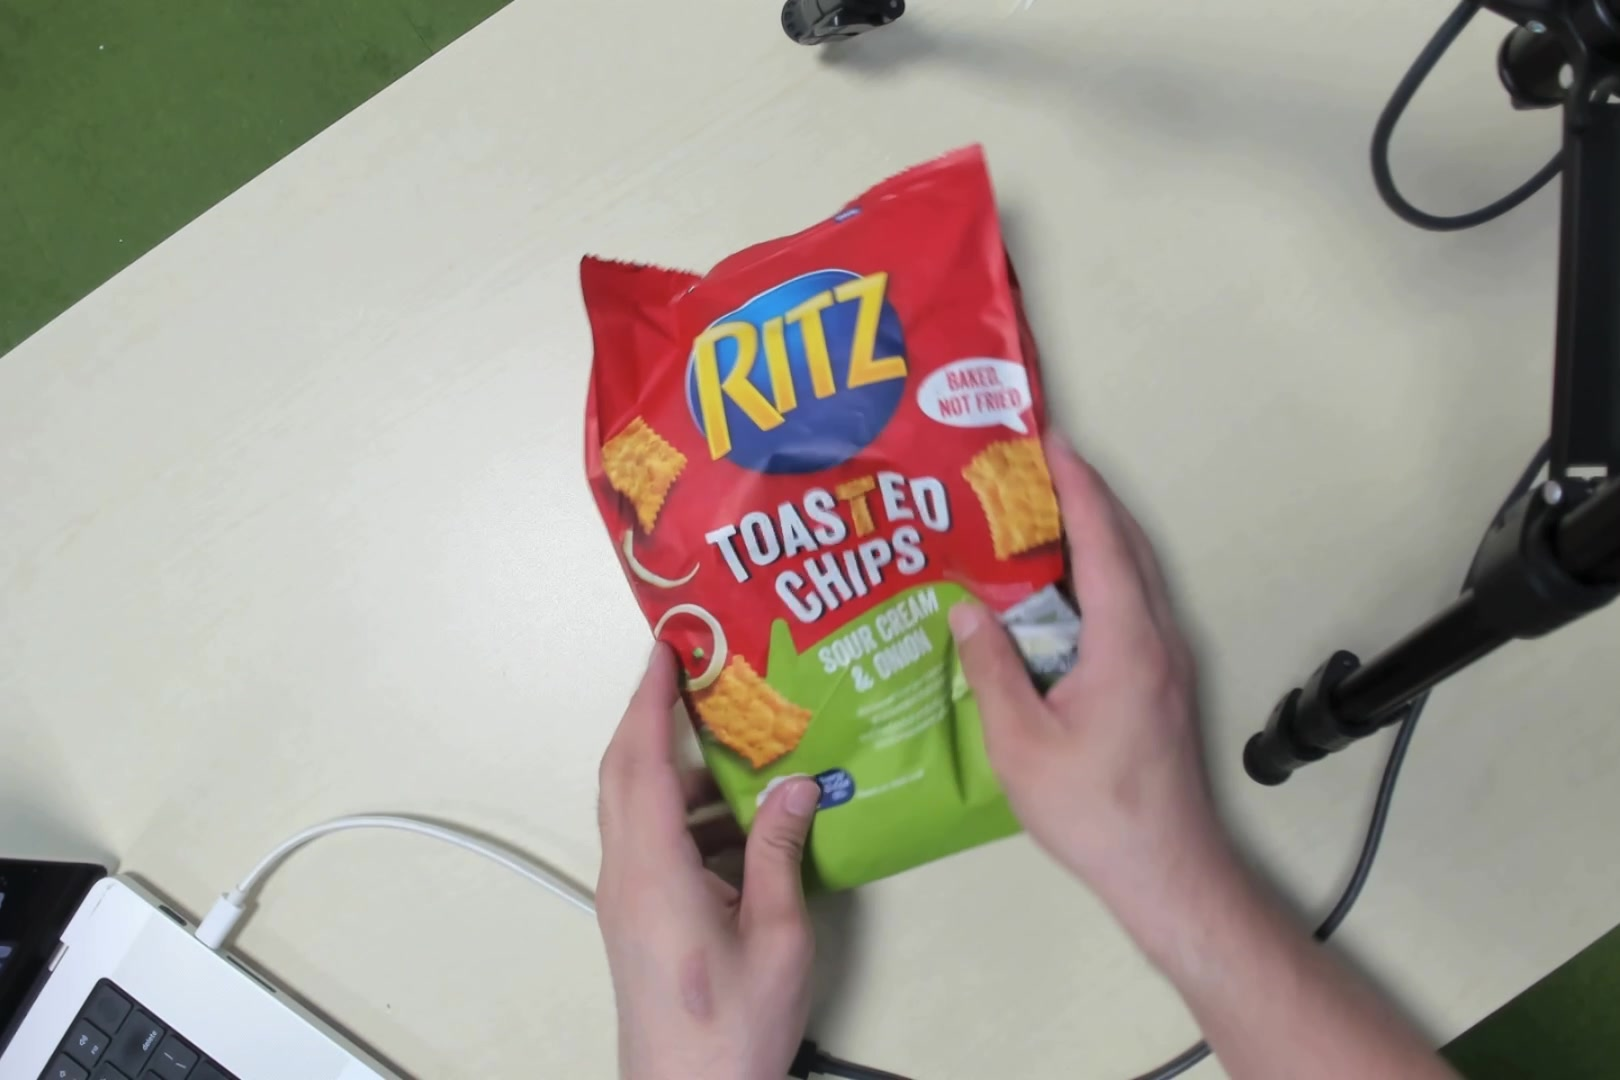BiscuitsCrackersCookies_200-299g_NonHalal_NonHealthy: (629, 199, 1049, 894)
